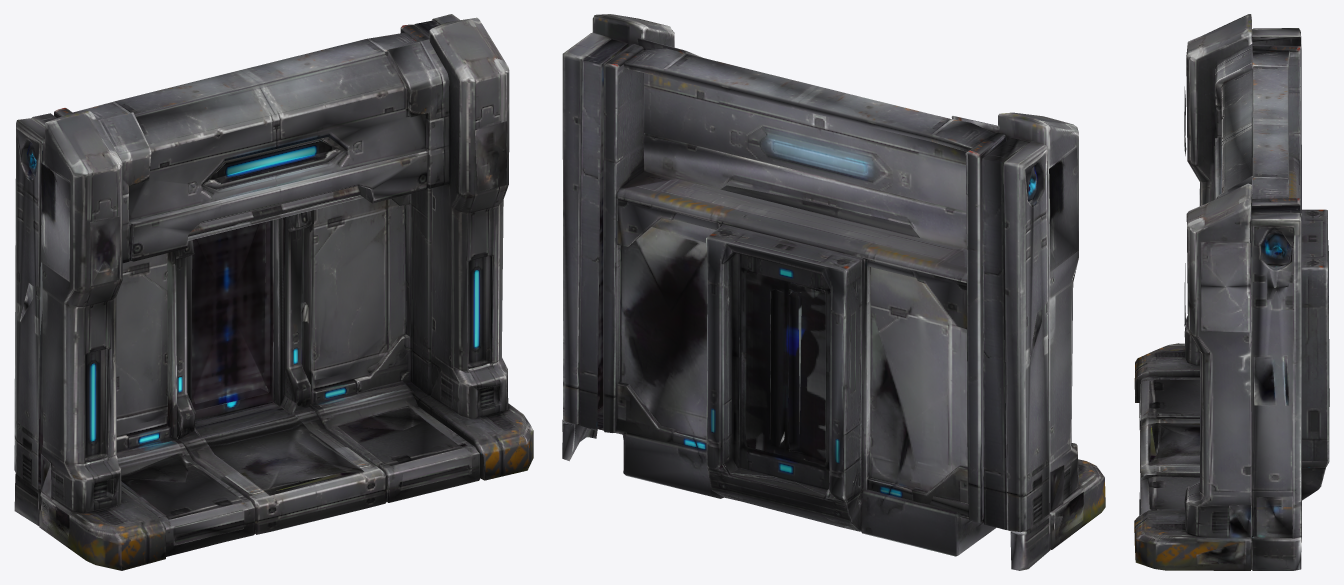
File: wall_high.glb
3 views of the same model, side by side, from view 1: azimuth 30°, elevation 25°; view 2: azimuth 150°, elevation 25°; view 3: azimuth 270°, elevation 25° (orthographic). The views are drawn at different scales.
Parts seen in each view (by area): view 1: mesh_node; view 2: mesh_node; view 3: mesh_node.
Boxes of the visible parts, x1=… form: mesh_node: x1=14, y1=14, x2=533, y2=570; mesh_node: x1=562, y1=14, x2=1105, y2=570; mesh_node: x1=1134, y1=14, x2=1329, y2=570.
Size of the model in its own units: 1.14 by 1 by 0.4821.
Materials: 1 (1 with a texture image).
